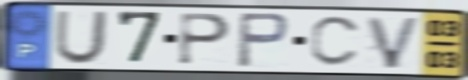7: (115, 9, 163, 67)
C: (308, 14, 365, 69)
P: (235, 11, 292, 70), (176, 11, 234, 68)
U: (52, 10, 111, 67)
V: (364, 15, 425, 70)
